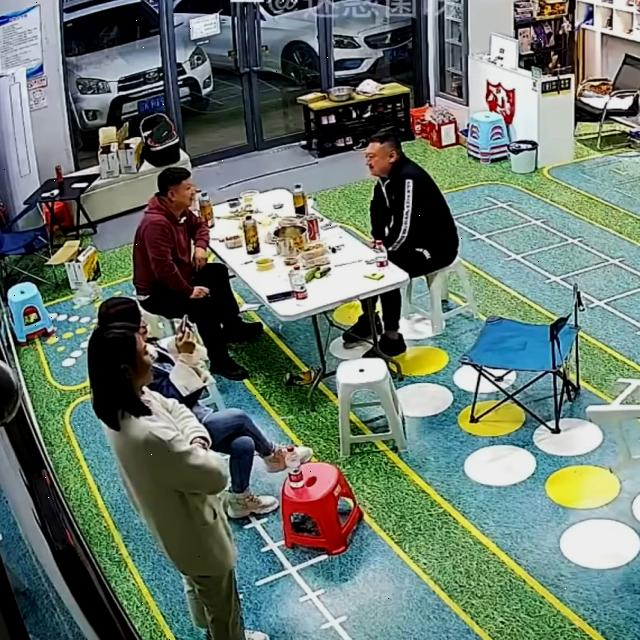sitting: (133, 167, 262, 380), (366, 133, 458, 277), (371, 290, 406, 357), (343, 303, 372, 344)
standing: (87, 321, 269, 639)
